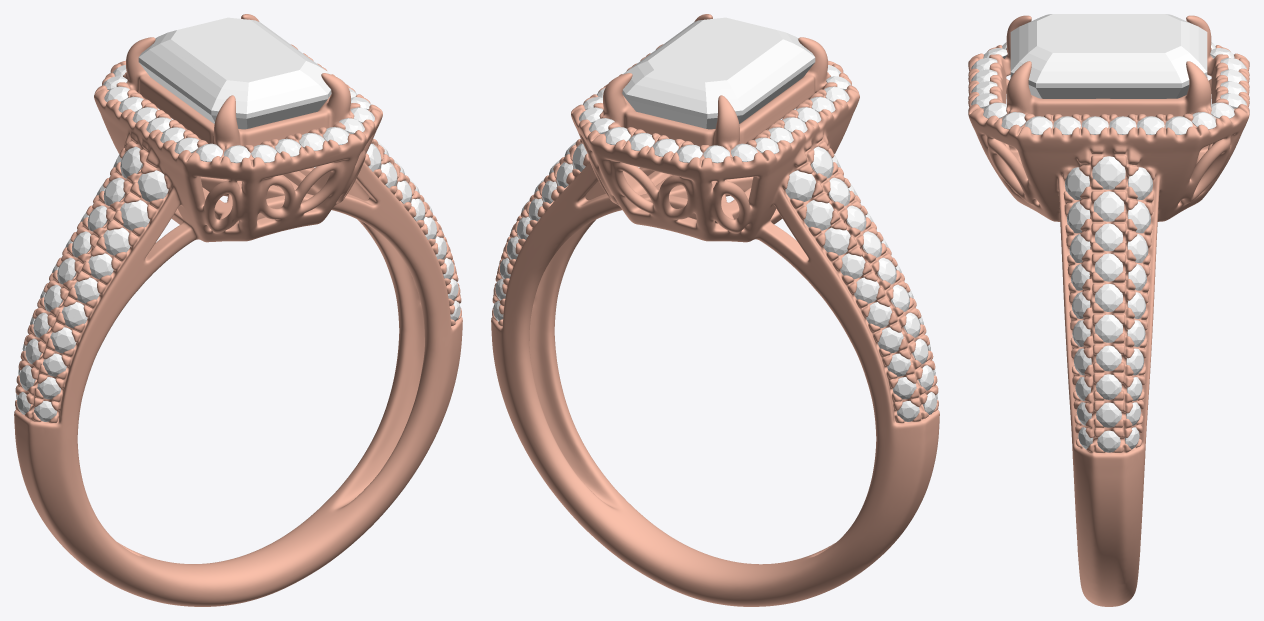
File: TRG9001225_GLB.glb
The picture shows the model from 3 angles, left to right: view 1: azimuth 30°, elevation 25°; view 2: azimuth 150°, elevation 25°; view 3: azimuth 270°, elevation 25°; orthographic projection.
Visible parts, largest first — view 1: TRG9001225_Modified3dm, Diamonds, GemOnCrv_48, GemOnCrv_57; view 2: TRG9001225_Modified3dm, Diamonds, GemOnCrv_37, GemOnCrv_28; view 3: TRG9001225_Modified3dm, Diamonds, GemOnCrv_68, GemOnCrv_77, GemOnCrv_73, GemOnCrv_74, GemOnCrv_76, GemOnCrv_75, GemOnCrv_67, GemOnCrv_78, GemOnCrv_72, GemOnCrv_71 (+6 smaller).
Boxes of the visible parts, left/top/right/bottom form: TRG9001225_Modified3dm: left=14, top=14, right=462, bottom=606; Diamonds: left=138, top=17, right=331, bottom=129; GemOnCrv_48: left=137, top=170, right=168, bottom=201; GemOnCrv_57: left=120, top=200, right=149, bottom=230; TRG9001225_Modified3dm: left=491, top=14, right=939, bottom=606; Diamonds: left=622, top=17, right=815, bottom=129; GemOnCrv_37: left=785, top=170, right=815, bottom=201; GemOnCrv_28: left=804, top=200, right=833, bottom=230; TRG9001225_Modified3dm: left=968, top=15, right=1249, bottom=606; Diamonds: left=1010, top=14, right=1207, bottom=98; GemOnCrv_68: left=1092, top=156, right=1125, bottom=189; GemOnCrv_77: left=1093, top=191, right=1124, bottom=221; GemOnCrv_73: left=1095, top=314, right=1122, bottom=342; GemOnCrv_74: left=1095, top=284, right=1122, bottom=311; GemOnCrv_76: left=1095, top=223, right=1122, bottom=251; GemOnCrv_75: left=1095, top=253, right=1122, bottom=281; GemOnCrv_67: left=1065, top=167, right=1089, bottom=199; GemOnCrv_78: left=1128, top=167, right=1152, bottom=199; GemOnCrv_72: left=1096, top=345, right=1121, bottom=371; GemOnCrv_71: left=1096, top=374, right=1121, bottom=399.
Size of the model in its own units: 2.42 by 2.89 by 1.34.
